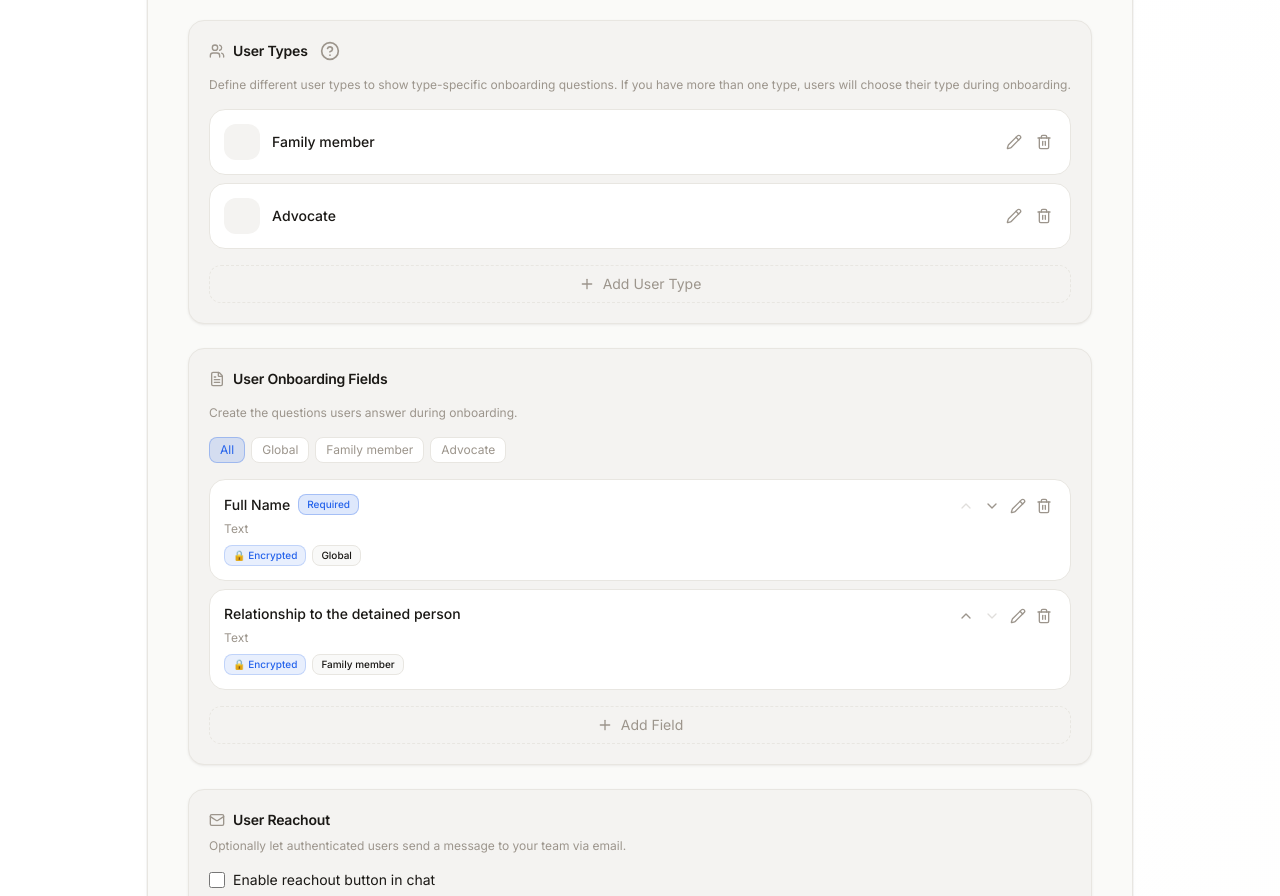
AdminUserConfig › resets the question scope when its selected User Type is deleted
(page scrolled)
Expected: the text "Full Name" is shown, x1=224 y1=494 x2=290 y2=514
Click the button "Family member". click: [370, 450]
box: x1=315 y1=437 x2=424 y2=463
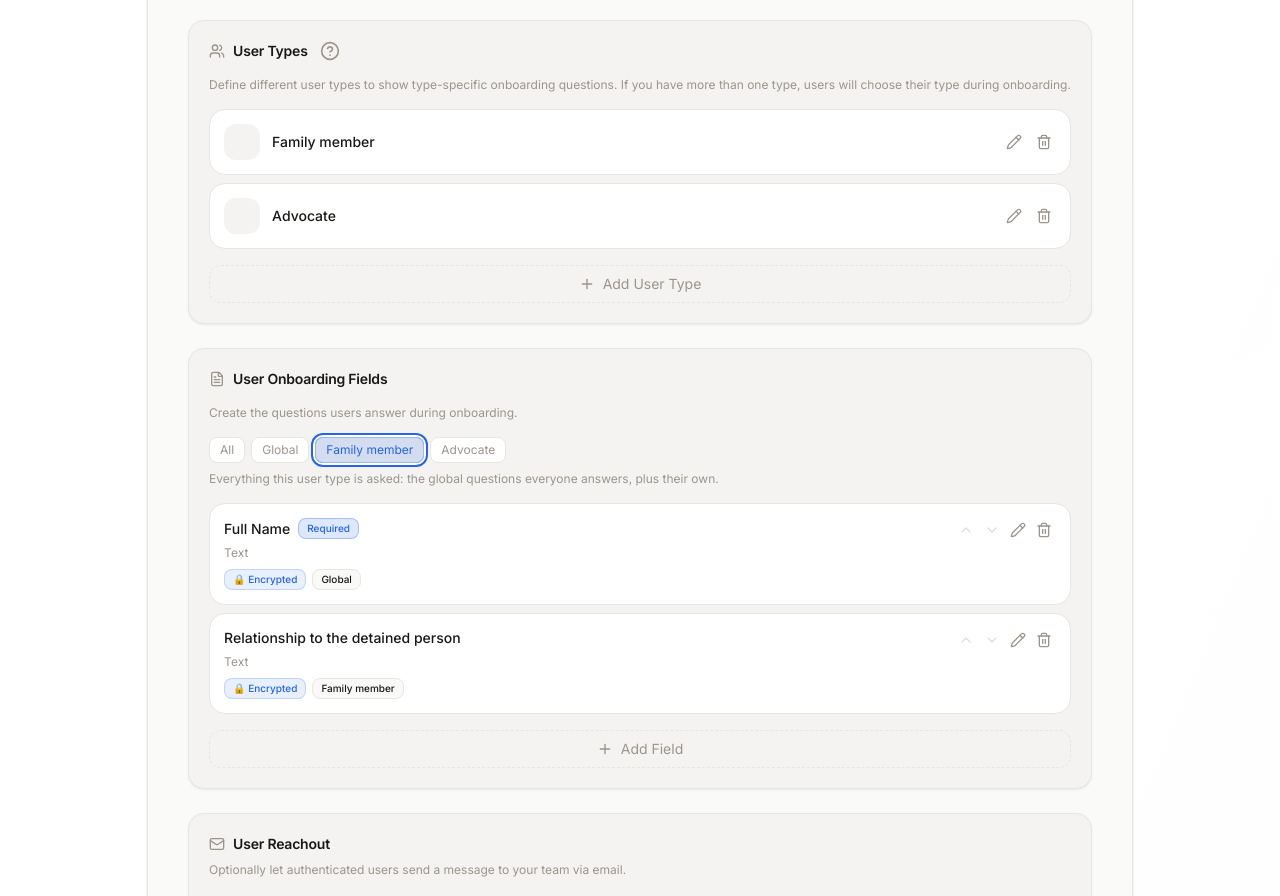
Result: the button "Family member" is pressed at x1=315 y1=437 x2=424 y2=463
Click the 1st button titled "Remove". click: [1044, 142]
box: x1=1032 y1=130 x2=1056 y2=154
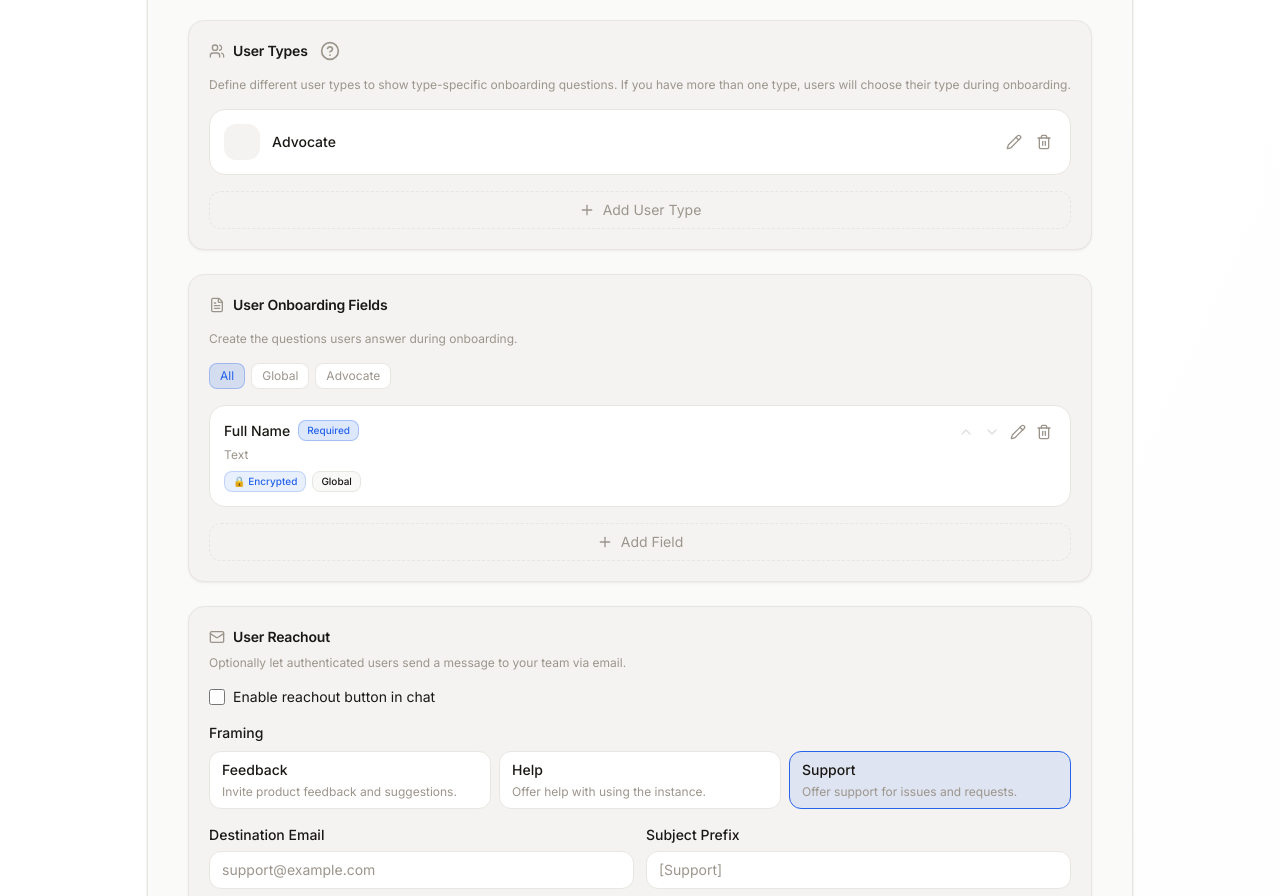
Result: the text "Family member" is gone
